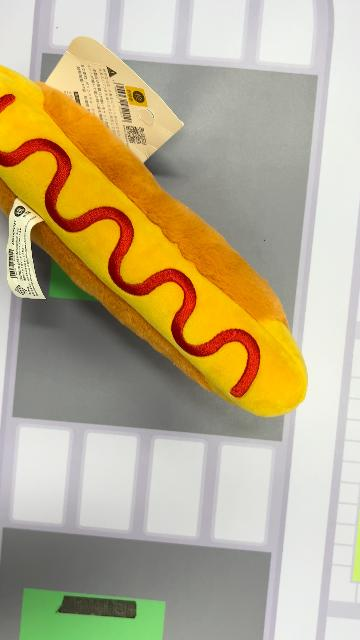hotdog: (1, 64, 309, 420)
